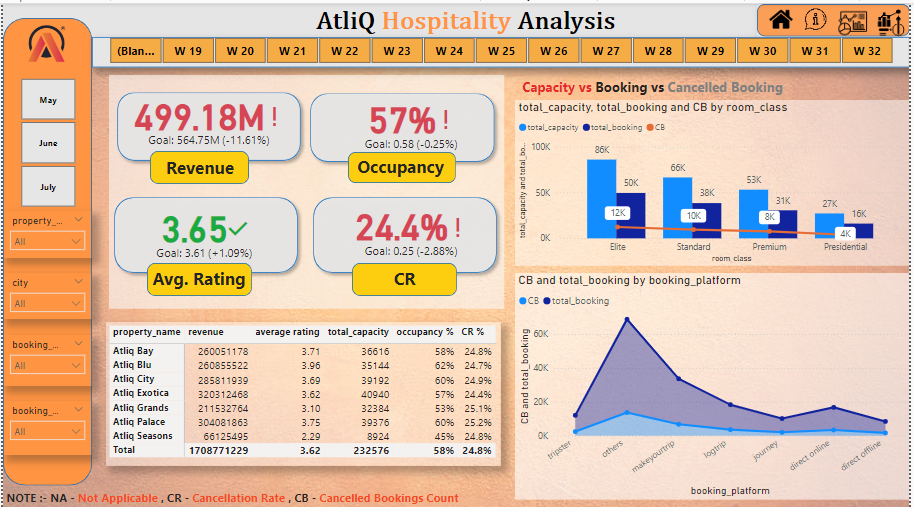

Layout of this report page (visuals, bound fields, positions):
{"tool":"powerbi","page":{"name":"Monthly Analysis View","canvas":[1280,720],"ordinal":3},"visuals":[{"type":"shape","box":[0,0,1280,82.9],"z":0},{"type":"shape","box":[0,21.4,125.7,660],"z":1000},{"type":"slicer","fields":{"Values":["dim_hotels.property_name"]},"box":[0,293.6,125.6,66.4],"z":2000},{"type":"slicer","fields":{"Values":["dim_hotels.city"]},"box":[0,381.6,125.6,64.9],"z":3000},{"type":"slicer","fields":{"Values":["fact_bookings.booking_status"]},"box":[0,468.2,125.6,72],"z":4000},{"type":"image","box":[17.1,25.7,90,62.9],"z":5000},{"type":"textbox","box":[278.3,0,750,58.3],"z":6000},{"type":"textbox","box":[722.9,100,488.6,37.1],"z":7000},{"type":"textbox","box":[0,681.7,663.3,38.3],"z":8000},{"type":"shape","box":[1064.3,1.4,215.7,45.7],"z":9000},{"type":"image","box":[1072.9,1.4,50,42.9],"z":10000},{"type":"image","box":[1122.9,2.9,50,40],"z":11000},{"type":"image","box":[1230,1.4,50,54.3],"z":12000},{"type":"image","box":[1172.9,0,52.9,57.1],"z":13000},{"type":"slicer","fields":{"Values":["fact_bookings.booking_platform"]},"box":[0,561.9,125.6,76.2],"z":14000},{"type":"slicer","fields":{"Values":["dim_date.date.Variation.Date Hierarchy.Month"]},"box":[0,100,125.7,194.3],"z":15000},{"type":"pivotTable","fields":{"Rows":["dim_hotels.property_name"],"Values":["Report_Measures.revenue","Report_Measures.average rating","Report_Measures.total_capacity","Report_Measures.occupancy %","Report_Measures.CR %"]},"box":[145.7,450,557.1,202.9],"z":16000},{"type":"stackedAreaChart","fields":{"Category":["fact_bookings.booking_platform"],"Y":["Report_Measures.CB","Report_Measures.total_booking"]},"box":[722.9,381.4,557.1,320],"z":17000},{"type":"lineClusteredColumnComboChart","fields":{"Category":["dim_rooms.room_class"],"Y2":["Report_Measures.CB"],"Y":["Report_Measures.total_capacity","Report_Measures.total_booking"]},"box":[722.9,137.1,557.1,234.3],"z":18000},{"type":"shape","box":[125.7,48.6,1154.3,42.9],"z":19000},{"type":"slicer","fields":{"Values":["dim_date.week no"]},"box":[125.7,42.9,1154.3,48.6],"z":20000},{"type":"shape","box":[149.6,101.6,557.6,330.4],"z":21000},{"type":"shape","box":[147.8,265.6,276.7,124.4],"z":22000},{"type":"shape","box":[428.9,265.6,276.7,124.4],"z":23000},{"type":"shape","box":[152.5,117.2,276.7,114.4],"z":24000},{"type":"shape","box":[424.4,118.9,277.8,114.4],"z":25000},{"type":"kpi","fields":{"Indicator":["Report_Measures.revenue"],"Goal":["Report_Measures.Revenue PM"],"TrendLine":["dim_date.date.Variation.Date Hierarchy.Month"]},"box":[128.5,118.6,324.7,103.1],"z":26000},{"type":"kpi","fields":{"Indicator":["Report_Measures.occupancy %"],"TrendLine":["dim_date.mmm yy.Variation.Date Hierarchy.Month"],"Goal":["Report_Measures.occupancy % PM"]},"box":[428.6,107.1,294.3,135.7],"z":27000},{"type":"kpi","fields":{"Indicator":["Report_Measures.average rating"],"Goal":["Report_Measures.average_rating_PM"],"TrendLine":["dim_date.date"]},"box":[177.1,265.7,215.7,127.1],"z":28000},{"type":"kpi","fields":{"Indicator":["Report_Measures.CR %"],"Goal":["Report_Measures.CR % PM"],"TrendLine":["dim_date.date.Variation.Date Hierarchy.Month"]},"box":[437.1,267.1,277.1,120],"z":29000},{"type":"shape","box":[207.5,208.9,139.8,46.6],"z":30000},{"type":"textbox","box":[214.6,210.4,127.1,45.2],"z":31000},{"type":"shape","box":[487.1,210.4,152.5,43.8],"z":32000},{"type":"textbox","box":[487.1,208.9,148.2,48],"z":33000},{"type":"shape","box":[203.3,367.1,148.2,46.6],"z":34000},{"type":"shape","box":[492.7,367.1,148.2,46.6],"z":35000},{"type":"textbox","box":[206.1,367.1,155.3,46.6],"z":36000},{"type":"textbox","box":[492.7,367.1,148.2,45.2],"z":37000}]}

Visuals, with their boxes in screenshot pixels (x1, y1, x2, y2), scaled from the page's 1280x720 canvas onto the 914x507 screenshot:
shape: BBox(0, 0, 913, 58)
shape: BBox(0, 15, 90, 480)
slicer - dim_hotels.property_name: BBox(0, 207, 90, 254)
slicer - dim_hotels.city: BBox(0, 269, 90, 314)
slicer - fact_bookings.booking_status: BBox(0, 330, 90, 380)
image: BBox(12, 18, 76, 62)
textbox: BBox(199, 0, 734, 41)
textbox: BBox(516, 70, 865, 97)
textbox: BBox(0, 480, 474, 506)
shape: BBox(760, 1, 913, 33)
image: BBox(766, 1, 802, 31)
image: BBox(802, 2, 838, 30)
image: BBox(878, 1, 913, 39)
image: BBox(838, 0, 875, 40)
slicer - fact_bookings.booking_platform: BBox(0, 396, 90, 449)
slicer - dim_date.date.Variation.Date Hierarchy.Month: BBox(0, 70, 90, 207)
pivotTable - dim_hotels.property_name x Report_Measures.revenue: BBox(104, 317, 502, 460)
stackedAreaChart - fact_bookings.booking_platform x Report_Measures.CB: BBox(516, 269, 913, 494)
lineClusteredColumnComboChart - dim_rooms.room_class x Report_Measures.CB: BBox(516, 97, 913, 262)
shape: BBox(90, 34, 913, 64)
slicer - dim_date.week no: BBox(90, 30, 913, 64)
shape: BBox(107, 72, 505, 304)
shape: BBox(106, 187, 303, 275)
shape: BBox(306, 187, 504, 275)
shape: BBox(109, 83, 306, 163)
shape: BBox(303, 84, 501, 164)
kpi - Report_Measures.revenue x Report_Measures.Revenue PM: BBox(92, 84, 324, 156)
kpi - Report_Measures.occupancy % x dim_date.mmm yy.Variation.Date Hierarchy.Month: BBox(306, 75, 516, 171)
kpi - Report_Measures.average rating x Report_Measures.average_rating_PM: BBox(126, 187, 280, 277)
kpi - Report_Measures.CR % x Report_Measures.CR % PM: BBox(312, 188, 510, 273)
shape: BBox(148, 147, 248, 180)
textbox: BBox(153, 148, 244, 180)
shape: BBox(348, 148, 457, 179)
textbox: BBox(348, 147, 454, 181)
shape: BBox(145, 258, 251, 291)
shape: BBox(352, 258, 458, 291)
textbox: BBox(147, 258, 258, 291)
textbox: BBox(352, 258, 458, 290)
